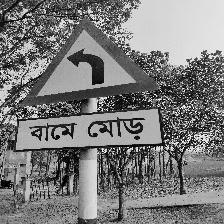Left-Turn: (15, 17, 163, 155)
